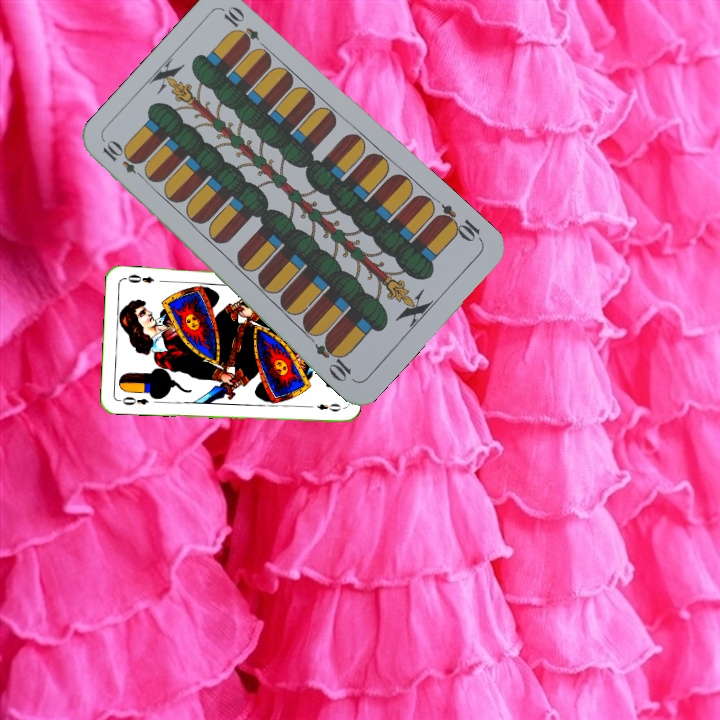E10: (98, 137, 150, 183), (432, 200, 485, 245)
EO: (115, 393, 151, 408)
